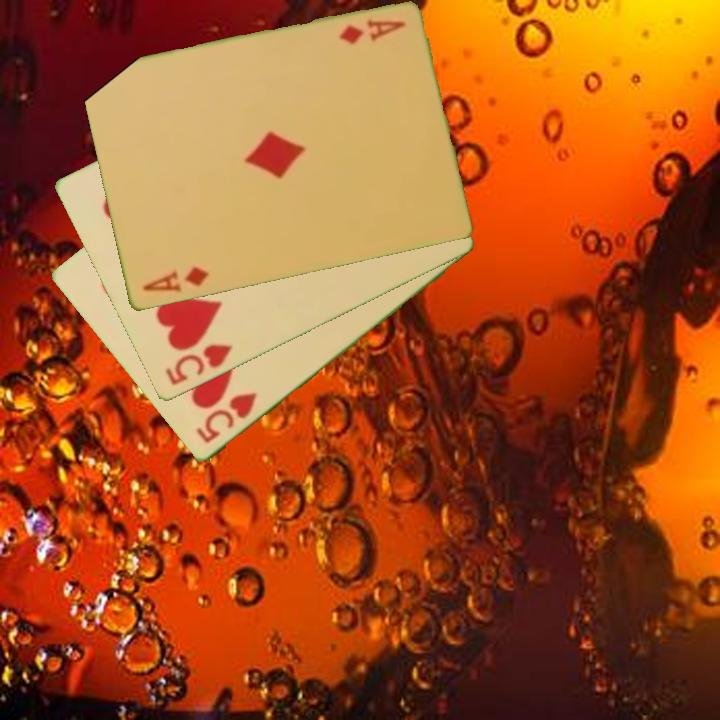5h: (192, 389, 260, 447), (161, 341, 235, 389)
Ad: (138, 263, 212, 295), (335, 17, 408, 48)
